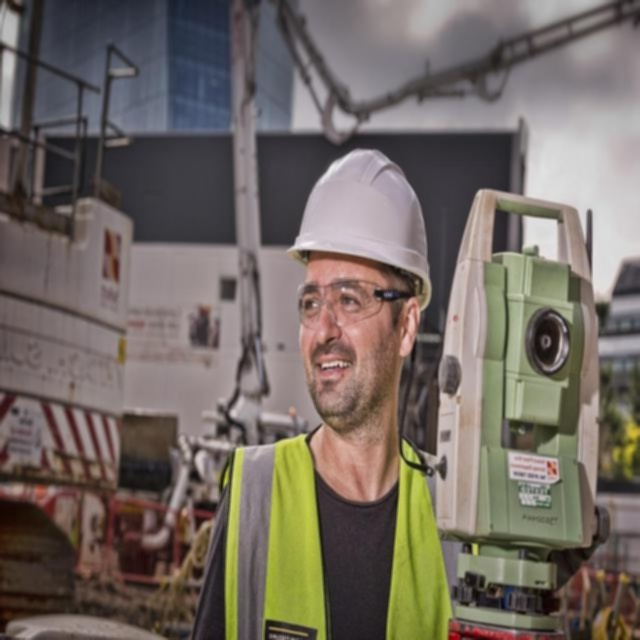goggles: (232, 278, 348, 330)
helmet: (201, 143, 353, 314)
vest: (198, 428, 412, 640)
